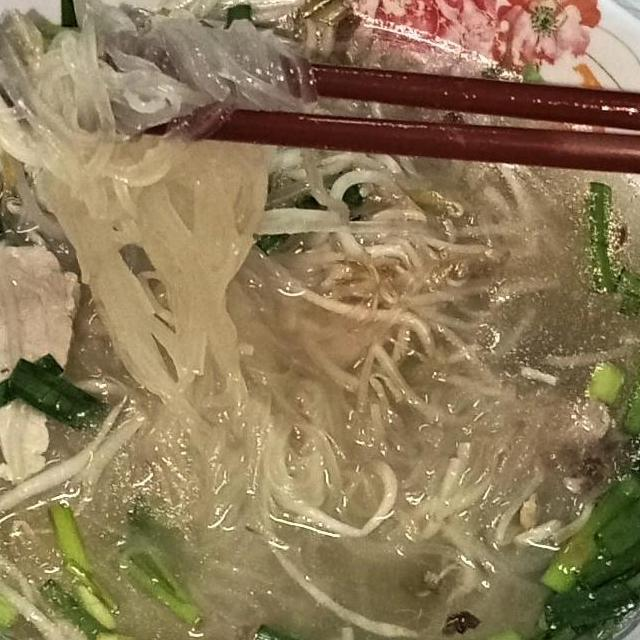banh hu tieu: (91, 335, 623, 640), (0, 0, 333, 418)
hu tieu: (0, 0, 640, 640)
thit heo: (0, 233, 93, 494)
